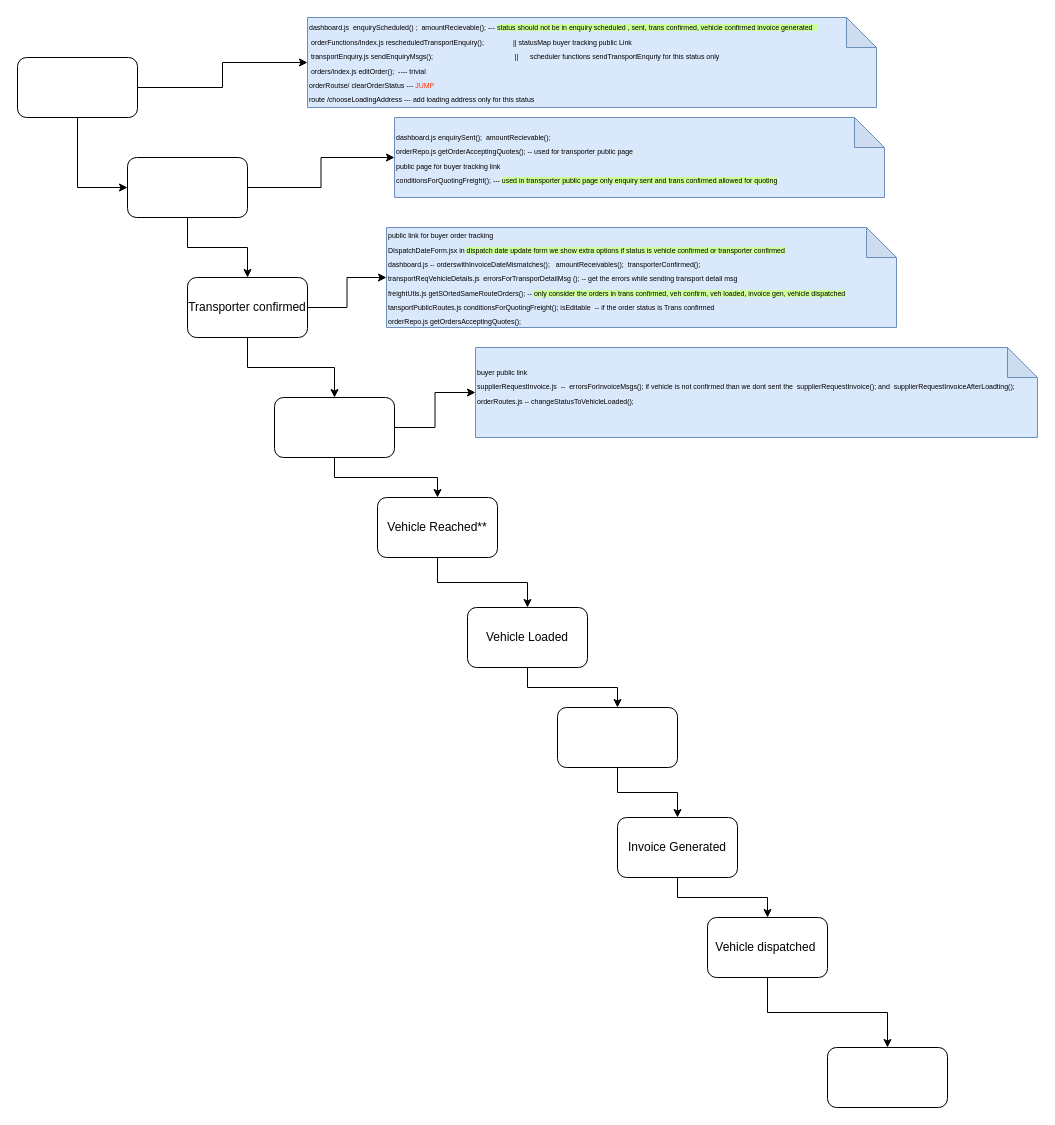
Some shapes in this 1055 by 1125 pixel diagram are drawn without their labels. Each missing label, with the centre of its shape:
"enquiry sent" belongs at [187,187].
"pending" belongs at [77,87].
"Supplier Invoice received **" belongs at [617,737].
"vehicle confirmed" belongs at [334,427].
"Vehicle delivered" belongs at [887,1077].
